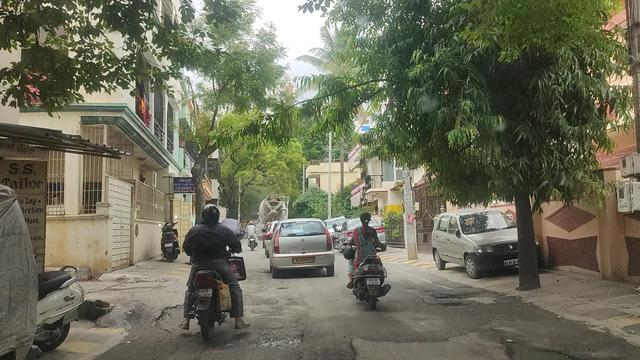LMV: (196, 199, 234, 333), (345, 208, 390, 308), (270, 219, 334, 275)
RoadDamages: (342, 316, 506, 360), (252, 322, 312, 355), (428, 286, 476, 308)
